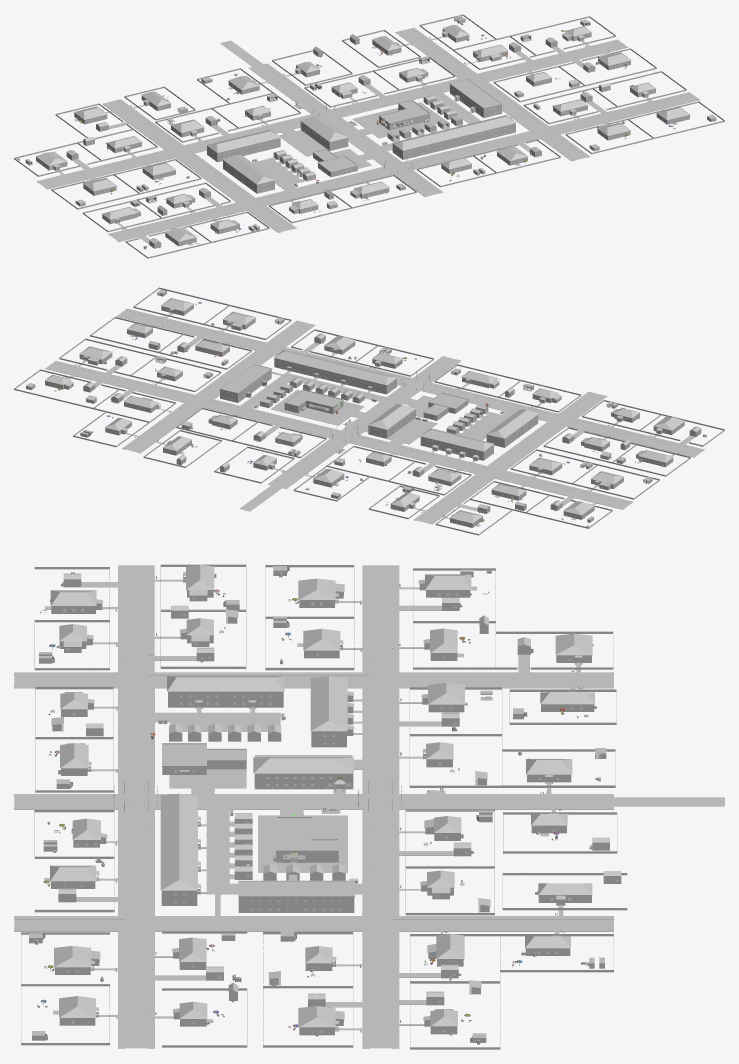
File: Strawbury.fbx
3 renders of one model, top to bottom at view 1: azimuth 30°, elevation 25°; view 2: azimuth 150°, elevation 25°; view 3: azimuth 270°, elevation 25°, orthographic. The views are drawn at different scales.
Visible parts, largest first — view 1: Prichal.002, RoofBilding.008, BordurV.008, BildingD.001, BordurV.052, BordurV.059, BordurV.002, BordurV.016, BordurV.055, RoofBilding.014, RoofB.001, RoofBilding.003 (+13 smaller); view 2: Prichal.002, RoofBilding.008, BordurV.008, BildingD.001, BordurV.052, BordurV.059, BordurV.016, BordurV.002, BordurV.055, RoofBilding.014, RoofB.001, BordurV.053 (+12 smaller); view 3: Prichal.002, BordurV.008, RoofBilding.008, BordurV.016, BordurV.002, BordurV.055, BordurV.052, BordurV.059, RoofB.001, RoofBilding.014, RoofBilding.003, BildingD.003 (+19 smaller).
Part boxes in pixels (x1,y1,x2,y2): Prichal.002: [39, 28, 697, 239]; RoofBilding.008: [392, 115, 516, 150]; BordurV.008: [335, 89, 535, 164]; BildingD.001: [392, 123, 515, 159]; BordurV.052: [482, 46, 690, 128]; BordurV.059: [45, 155, 242, 235]; BordurV.002: [117, 67, 317, 147]; BordurV.016: [189, 125, 388, 200]; BordurV.055: [264, 31, 463, 111]; RoofBilding.014: [207, 129, 280, 152]; RoofB.001: [449, 79, 502, 108]; RoofBilding.003: [222, 155, 274, 184]; Prichal.002: [47, 310, 702, 523]; RoofBilding.008: [273, 349, 397, 385]; BordurV.008: [208, 352, 407, 432]; BildingD.001: [274, 358, 396, 394]; BordurV.052: [54, 315, 261, 397]; BordurV.059: [500, 424, 696, 503]; BordurV.016: [354, 388, 552, 468]; BordurV.002: [283, 440, 481, 520]; BordurV.055: [137, 405, 335, 485]; RoofBilding.014: [420, 428, 494, 451]; RoofB.001: [220, 364, 272, 393]; BordurV.053: [45, 367, 190, 449]; Prichal.002: [14, 565, 724, 1048]; BordurV.008: [147, 806, 369, 918]; RoofBilding.008: [160, 793, 197, 890]; BordurV.016: [147, 684, 369, 797]; BordurV.002: [391, 684, 613, 797]; BordurV.055: [391, 806, 613, 919]; BordurV.052: [147, 928, 369, 1048]; BordurV.059: [147, 565, 369, 675]; RoofB.001: [238, 880, 354, 897]; RoofBilding.014: [310, 676, 347, 731]; RoofBilding.003: [167, 676, 284, 691]; BildingD.003: [168, 691, 283, 707].
Bounding box in the file's own units: 51576 × 1179 × 32011.
